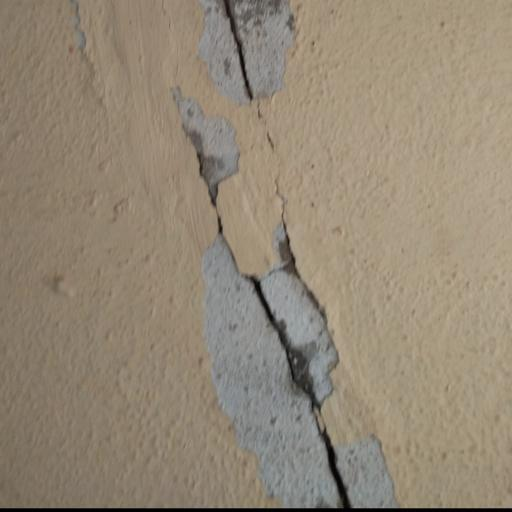peeling: (188, 207, 412, 512), (176, 0, 320, 117), (148, 73, 259, 215)
